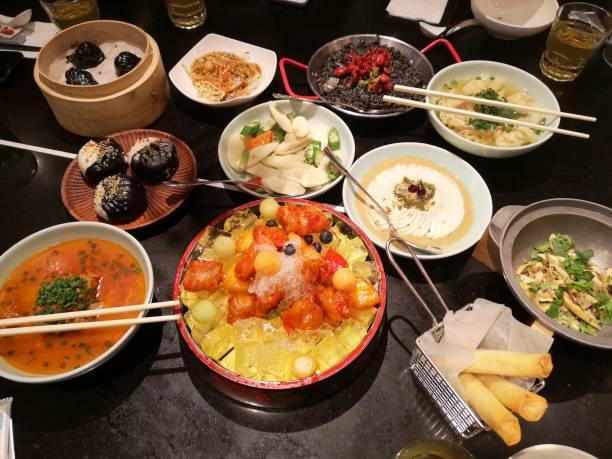Braised Crucian Carp: (171, 198, 385, 401), (0, 220, 153, 382), (342, 141, 491, 259), (494, 199, 612, 346), (35, 18, 168, 137), (61, 129, 195, 230), (425, 59, 558, 159), (217, 100, 350, 199), (305, 33, 438, 120), (167, 31, 273, 107)
